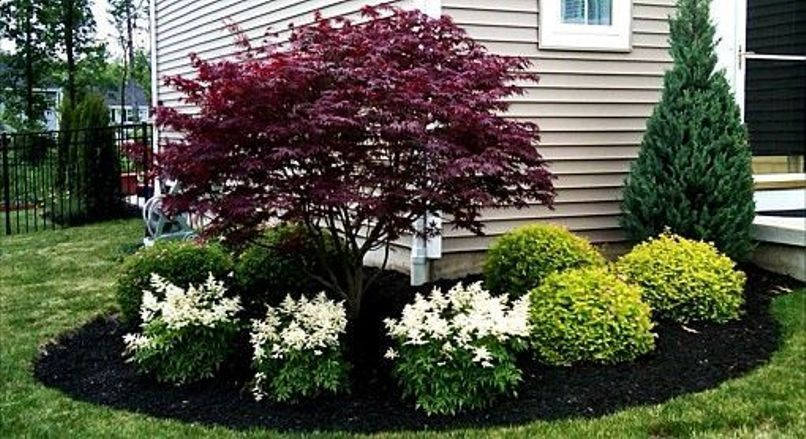bush: (610, 235, 750, 326), (523, 272, 656, 365), (225, 224, 367, 307), (115, 242, 238, 326), (484, 225, 607, 305)
tree: (130, 9, 557, 308), (618, 4, 769, 281)
